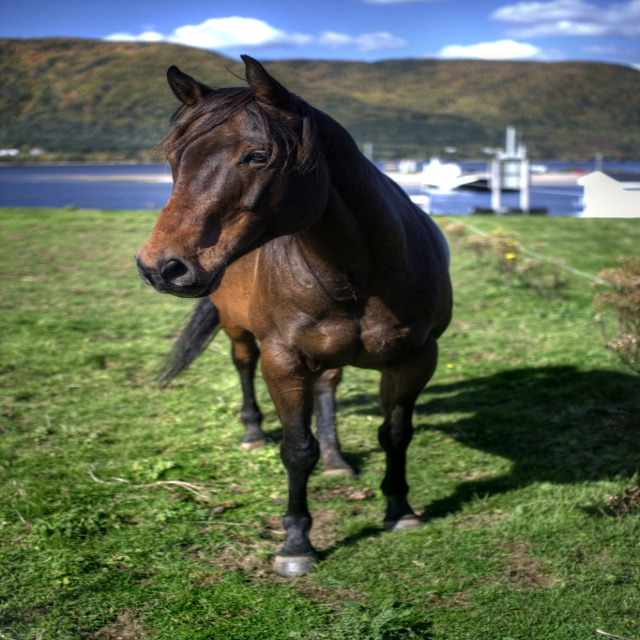Horse: (130, 52, 457, 576)
